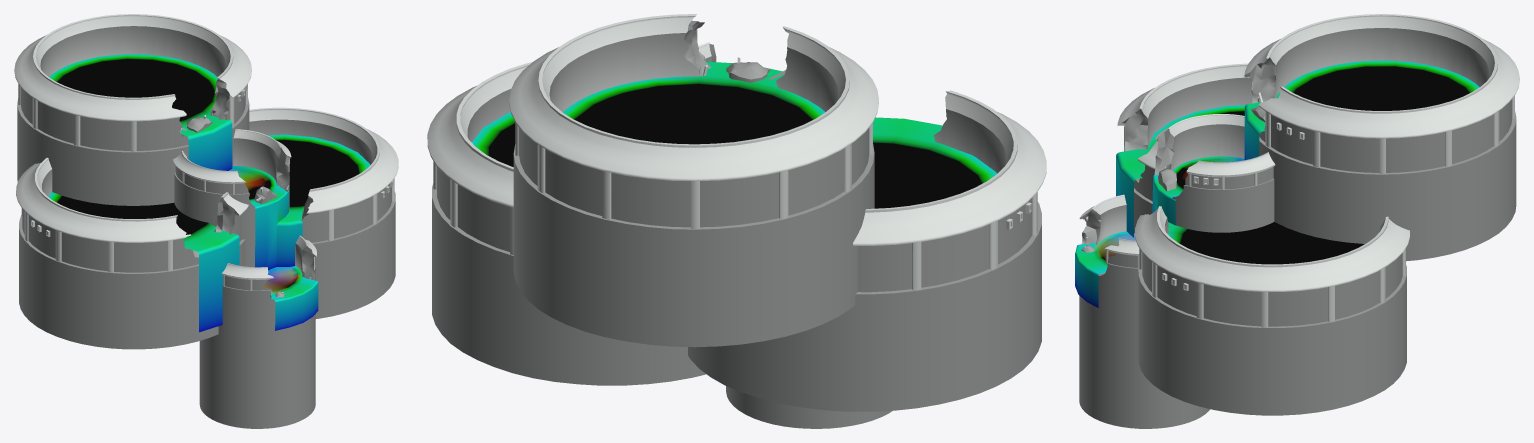
3 renders of one model, left to right at view 1: azimuth 30°, elevation 25°; view 2: azimuth 150°, elevation 25°; view 3: azimuth 270°, elevation 25°, orthographic. The views are drawn at different scales.
Parts seen in each view (by area): view 1: G:\FFXIV-MapTools\exports\e3f2\bg\ex2\02_est_e3\fld\e3f2\bgp (×8); view 2: G:\FFXIV-MapTools\exports\e3f2\bg\ex2\02_est_e3\fld\e3f2\bgp (×7); view 3: G:\FFXIV-MapTools\exports\e3f2\bg\ex2\02_est_e3\fld\e3f2\bgp (×8).
Part boxes in pixels (bbox=[...]): G:\FFXIV-MapTools\exports\e3f2\bg\ex2\02_est_e3\fld\e3f2\bgp (×8): bbox=[14, 14, 398, 428]; G:\FFXIV-MapTools\exports\e3f2\bg\ex2\02_est_e3\fld\e3f2\bgp (×7): bbox=[427, 14, 1046, 428]; G:\FFXIV-MapTools\exports\e3f2\bg\ex2\02_est_e3\fld\e3f2\bgp (×8): bbox=[1075, 14, 1519, 428].
Size of the model in its own units: 481 by 358 by 445.
